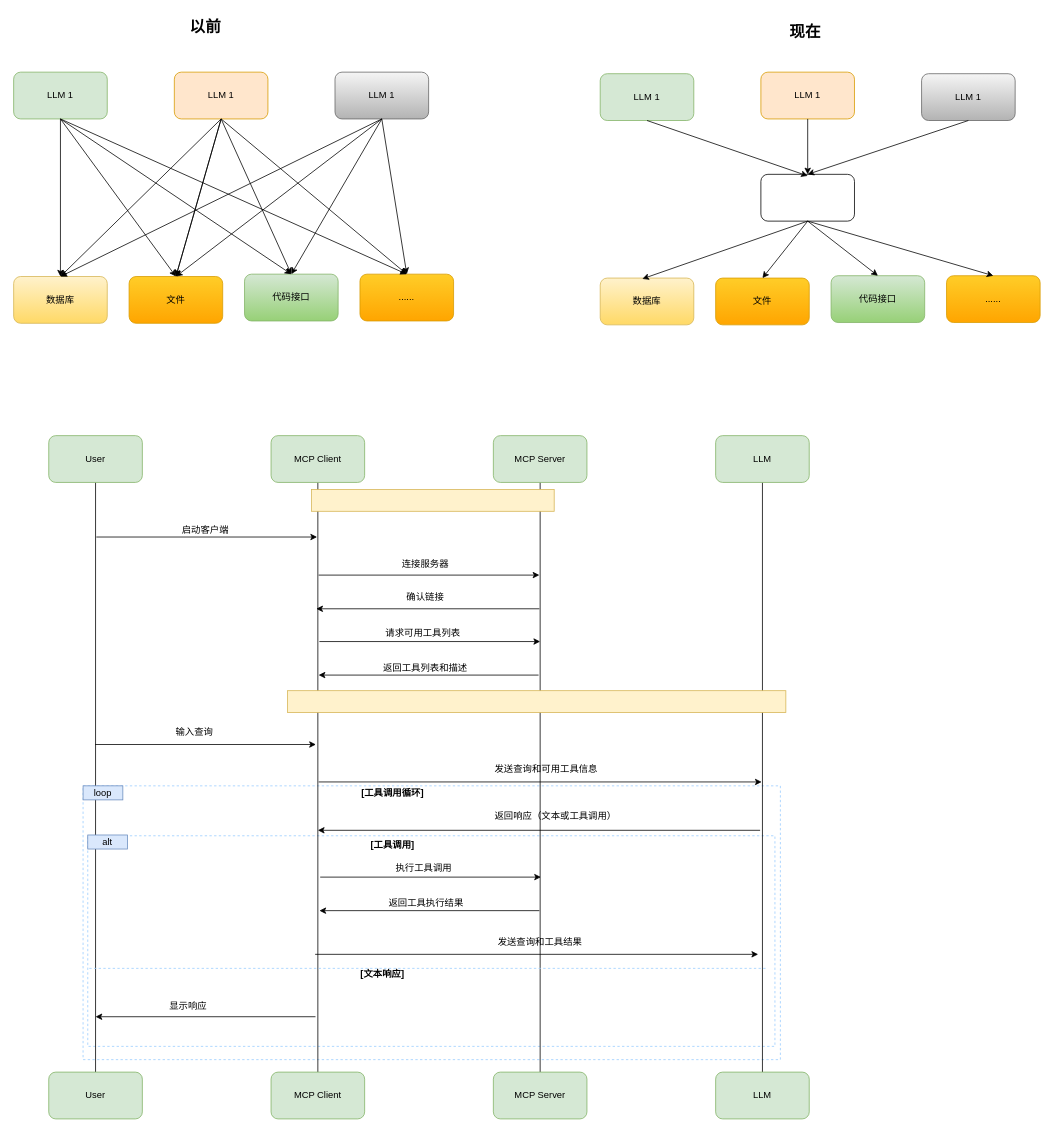
Some shapes in this 1054 by 1133 pixel diagram are drawn without their labels. The box of each missing label's shape, as (x1, y1, x2, y2) in pixels:
MCP: (760, 174, 854, 221)
初始化阶段: (311, 489, 554, 511)
查询处理阶段: (287, 690, 786, 713)
